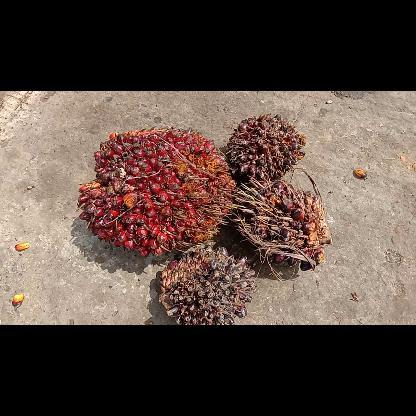TBS abnormal: (232, 175, 335, 273), (156, 236, 258, 324), (226, 110, 308, 186)
TBS masak: (76, 124, 236, 256)
